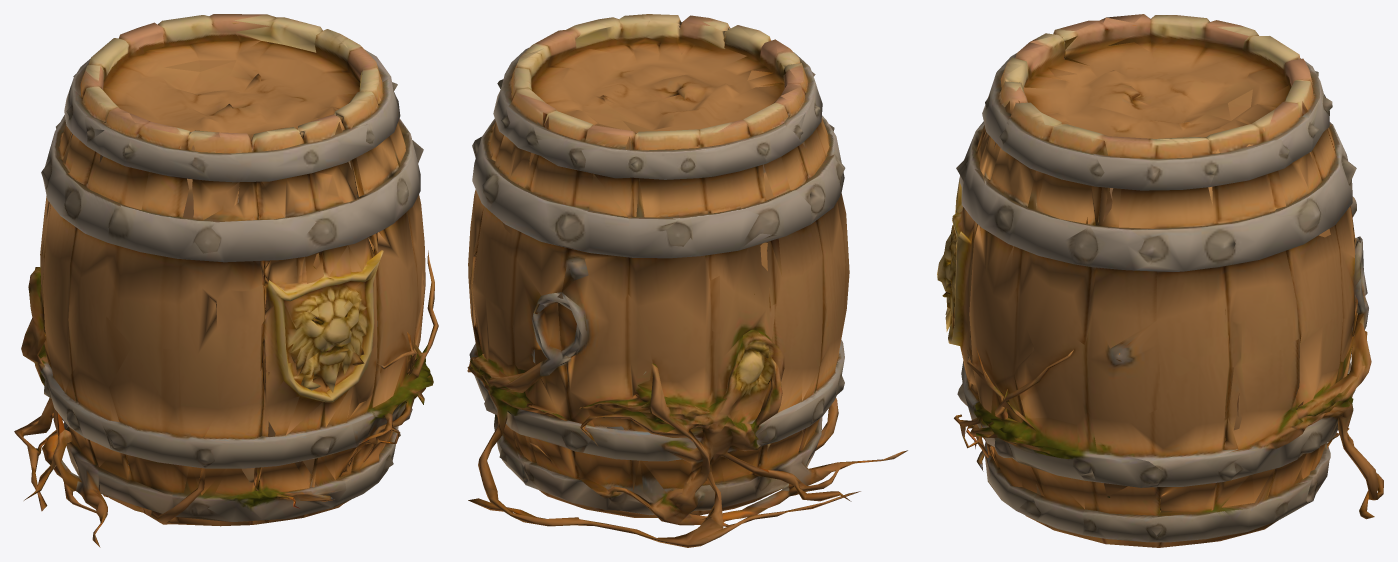
File: barrel.glb
The picture shows the model from 3 angles, left to right: view 1: azimuth 30°, elevation 25°; view 2: azimuth 150°, elevation 25°; view 3: azimuth 270°, elevation 25°; orthographic projection. The views are drawn at different scales.
Visible parts, largest first — view 1: tripo_node_6d69967b; view 2: tripo_node_6d69967b; view 3: tripo_node_6d69967b.
Boxes of the visible parts, x1,y1,x2,y2 form: tripo_node_6d69967b: (14, 14, 438, 547); tripo_node_6d69967b: (467, 14, 907, 547); tripo_node_6d69967b: (937, 14, 1383, 547).
Size of the model in its own units: 0.9999 by 1 by 0.9979.
1 material, 1 textured.
